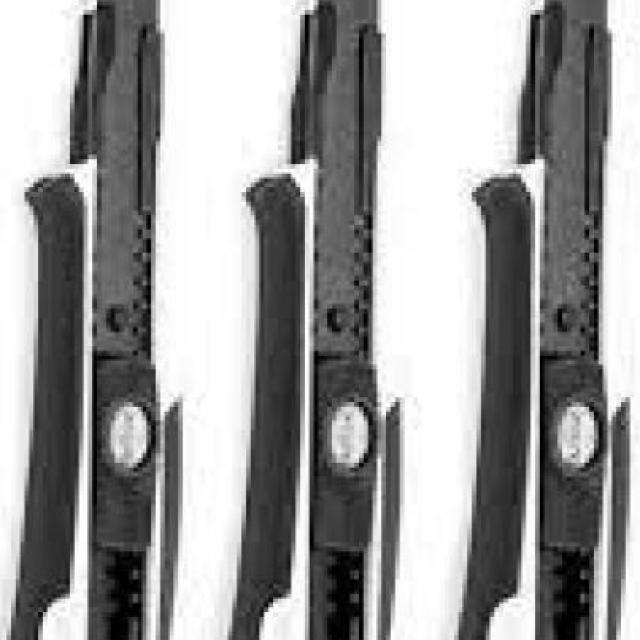estilete: (228, 0, 416, 640), (457, 0, 636, 640), (9, 0, 181, 640)
